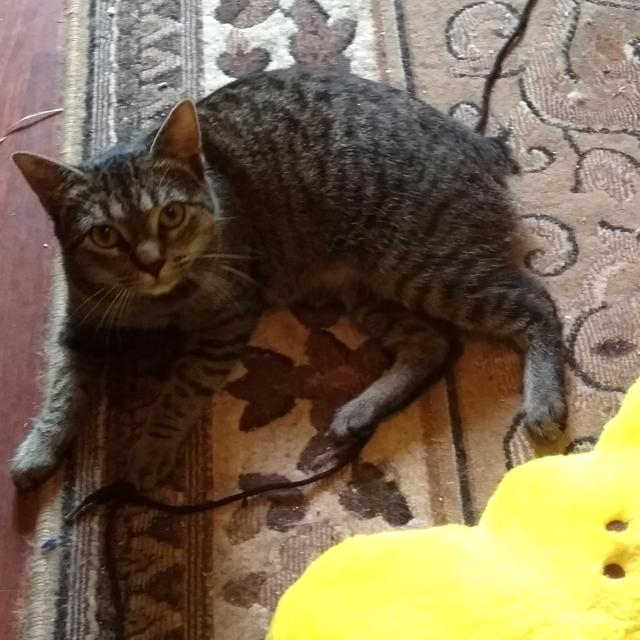manx_cat: (0, 80, 257, 322)
